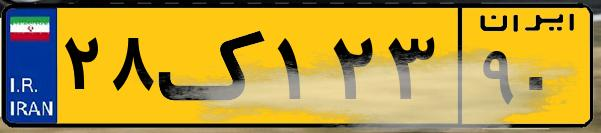0: (525, 38, 570, 115)
1: (270, 28, 330, 110)
2: (330, 28, 385, 110), (57, 26, 110, 100)
3: (385, 28, 445, 110)
8: (110, 28, 158, 98)
9: (475, 38, 525, 113)
ک: (158, 12, 270, 120)
